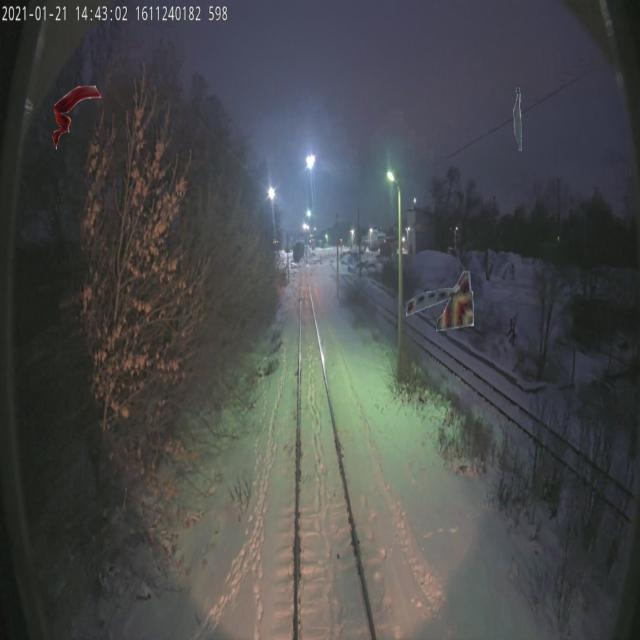floating object: (406, 268, 478, 332), (52, 86, 102, 150), (514, 86, 528, 150)
